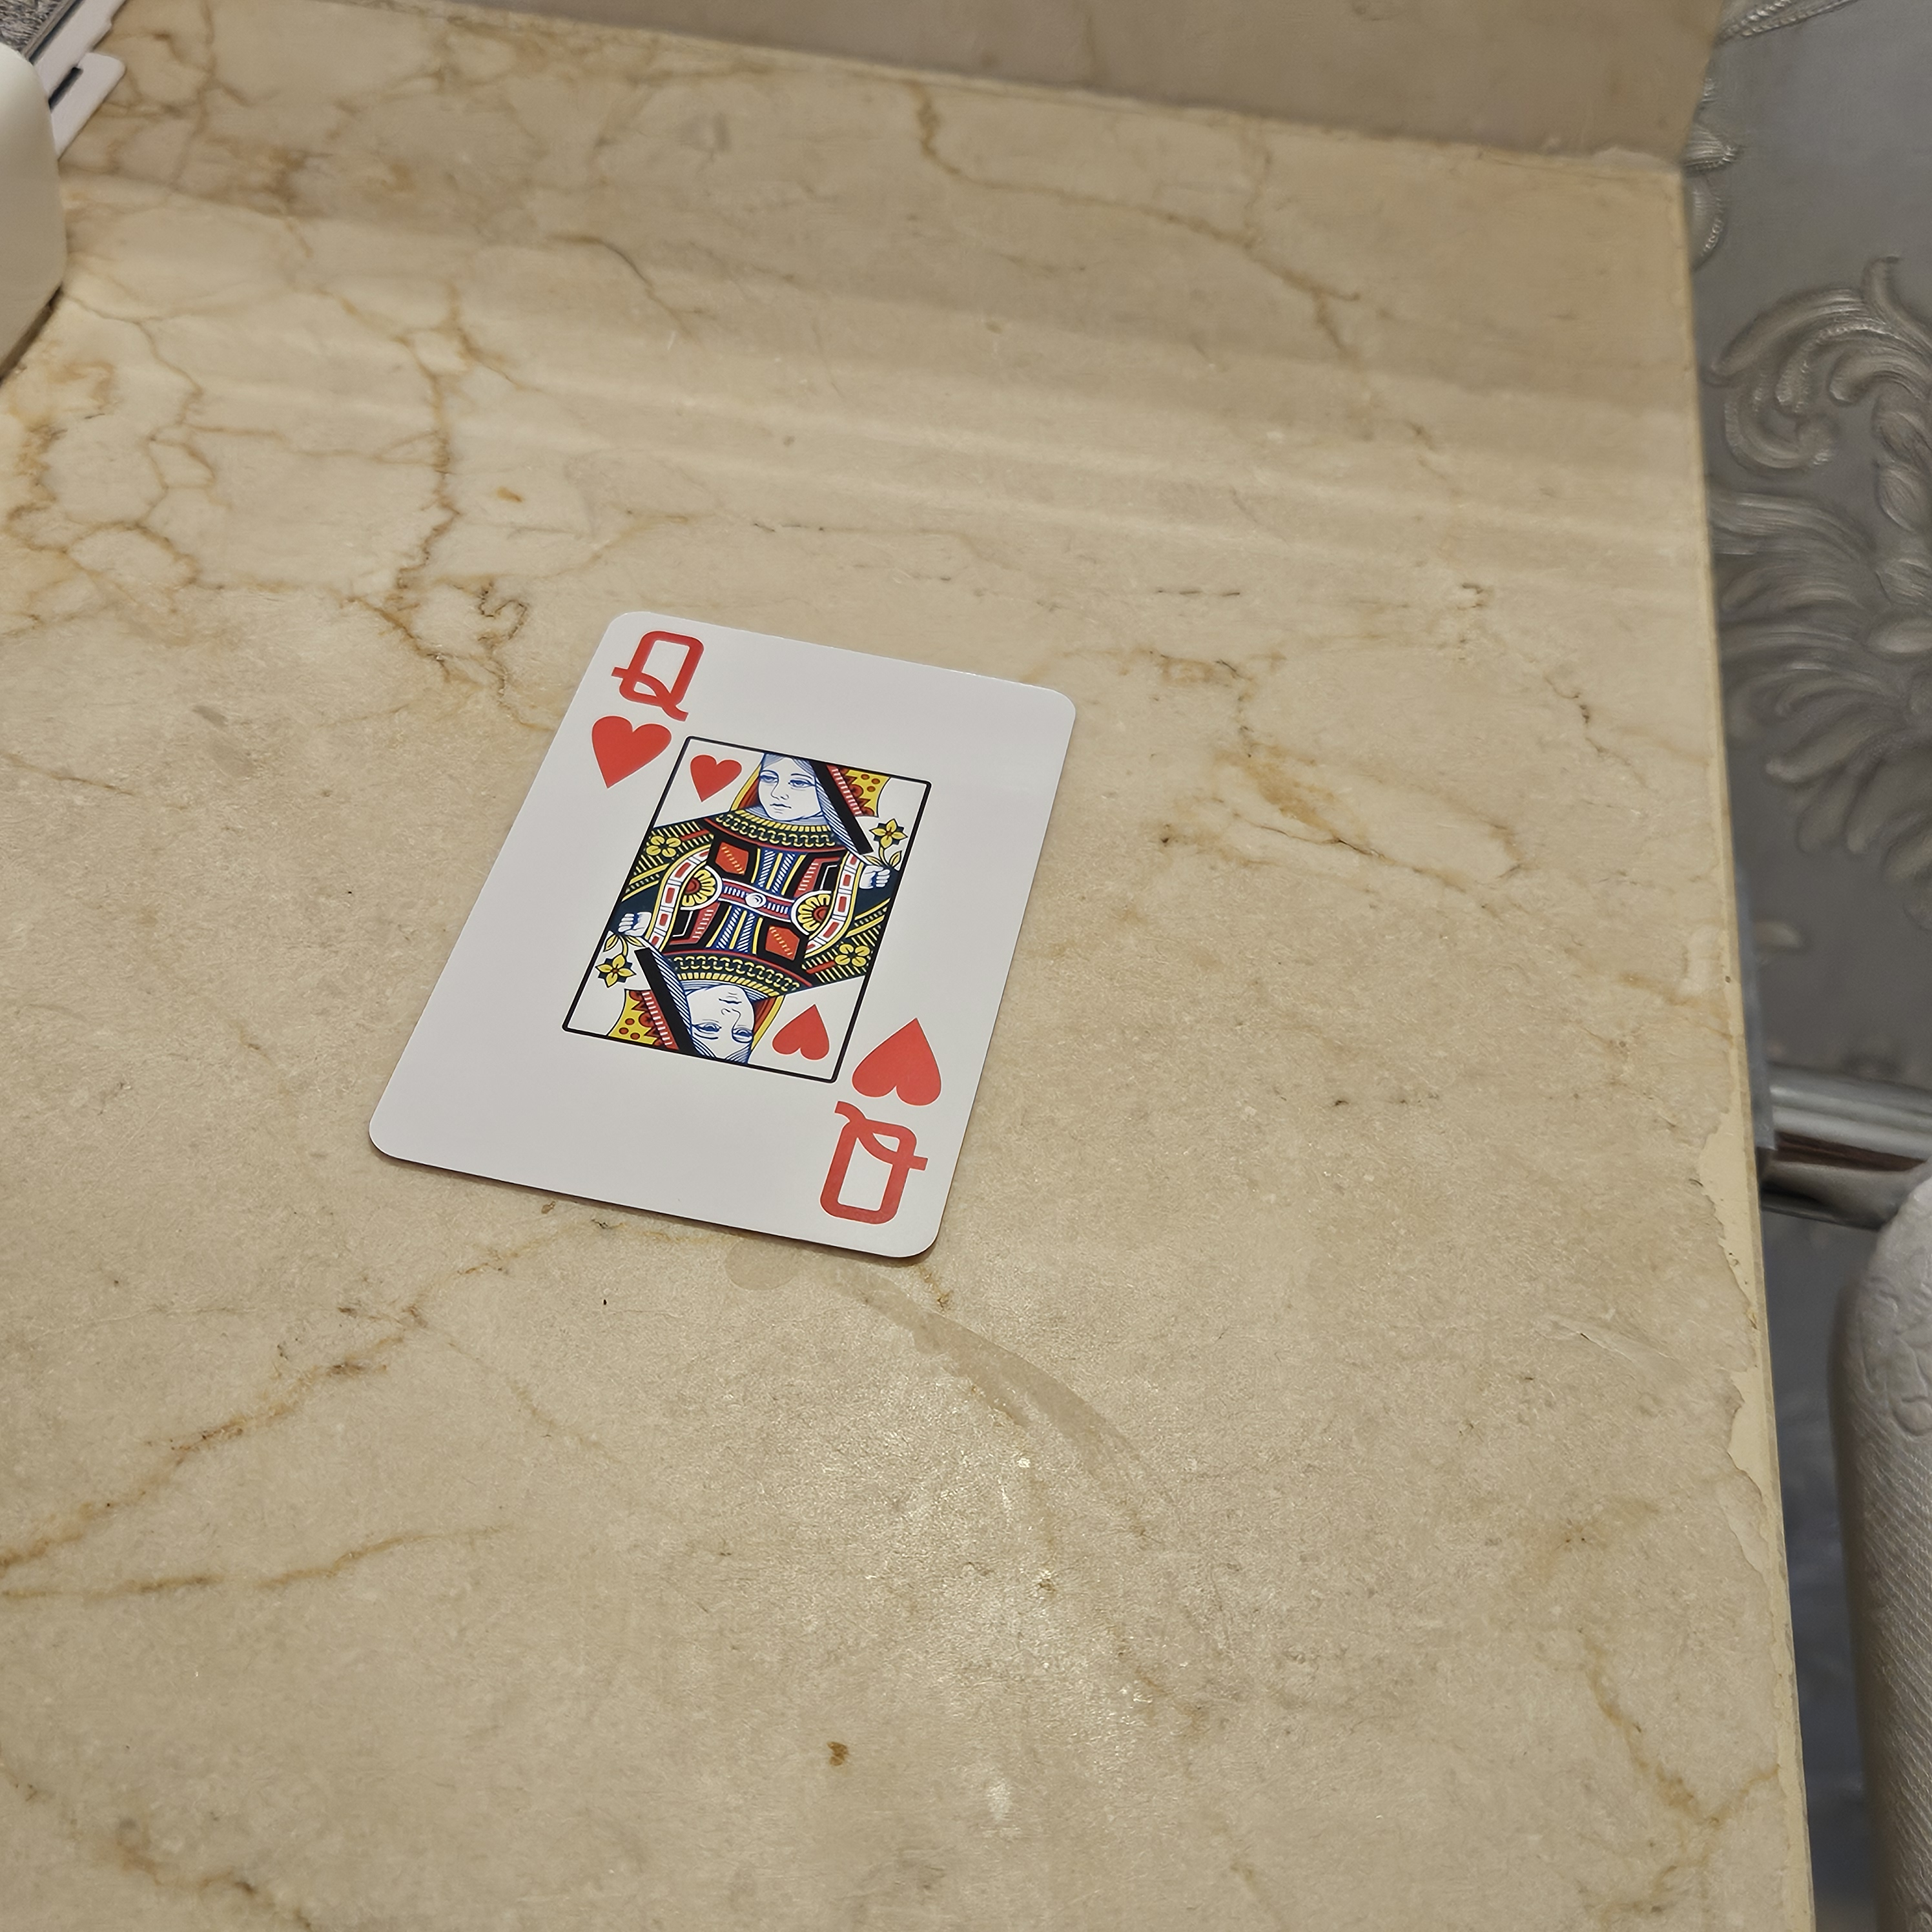QC: (810, 1007, 950, 1244), (573, 619, 713, 803)
